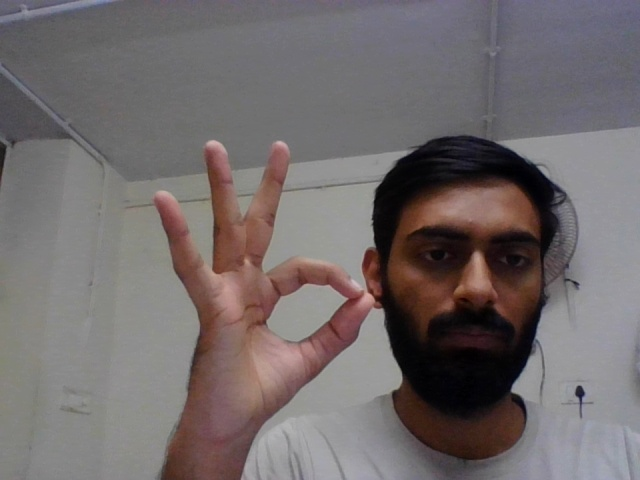F: (145, 133, 364, 452)
